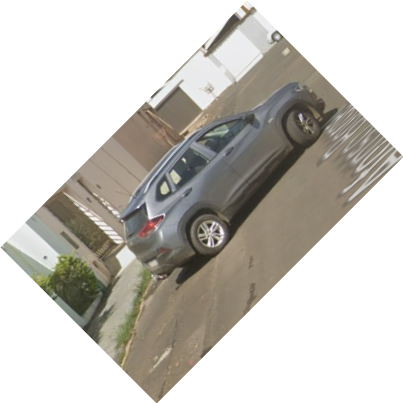car: (104, 77, 338, 283)
